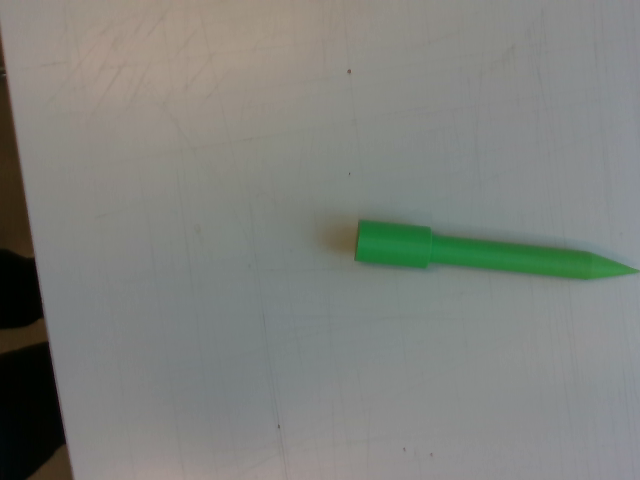Probe: (349, 211, 640, 284)
